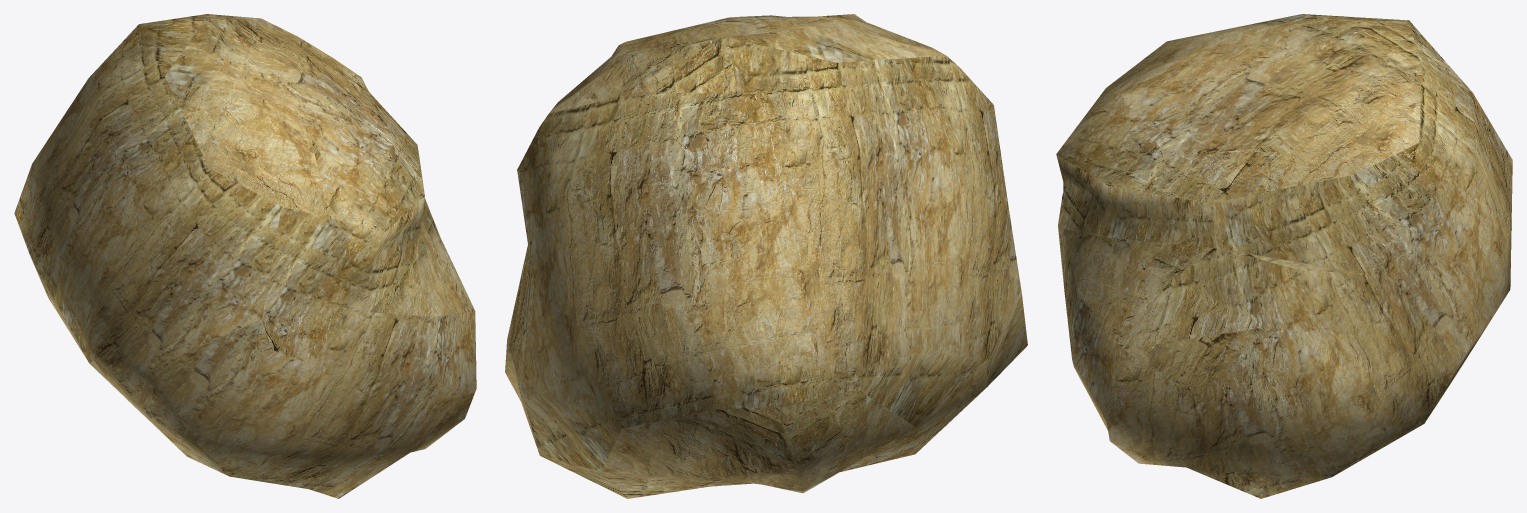
File: Boulder17.dae
The picture shows the model from 3 angles, left to right: view 1: azimuth 30°, elevation 25°; view 2: azimuth 150°, elevation 25°; view 3: azimuth 270°, elevation 25°; orthographic projection. The views are drawn at different scales.
Parts seen in each view (by area): view 1: rock0; view 2: rock0; view 3: rock0.
Boxes of the visible parts, box(x1,y1,x2,y2) form: rock0: box(14, 14, 476, 498); rock0: box(505, 14, 1027, 498); rock0: box(1056, 14, 1512, 498).
Bounding box in the file's own units: 1.41 × 1.61 × 1.63.
